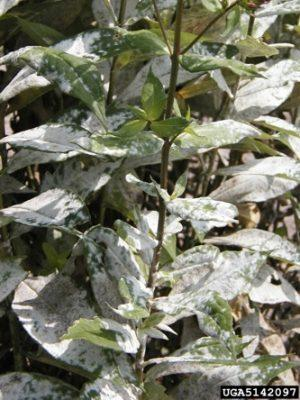powdery_mildew: (13, 0, 300, 400)
